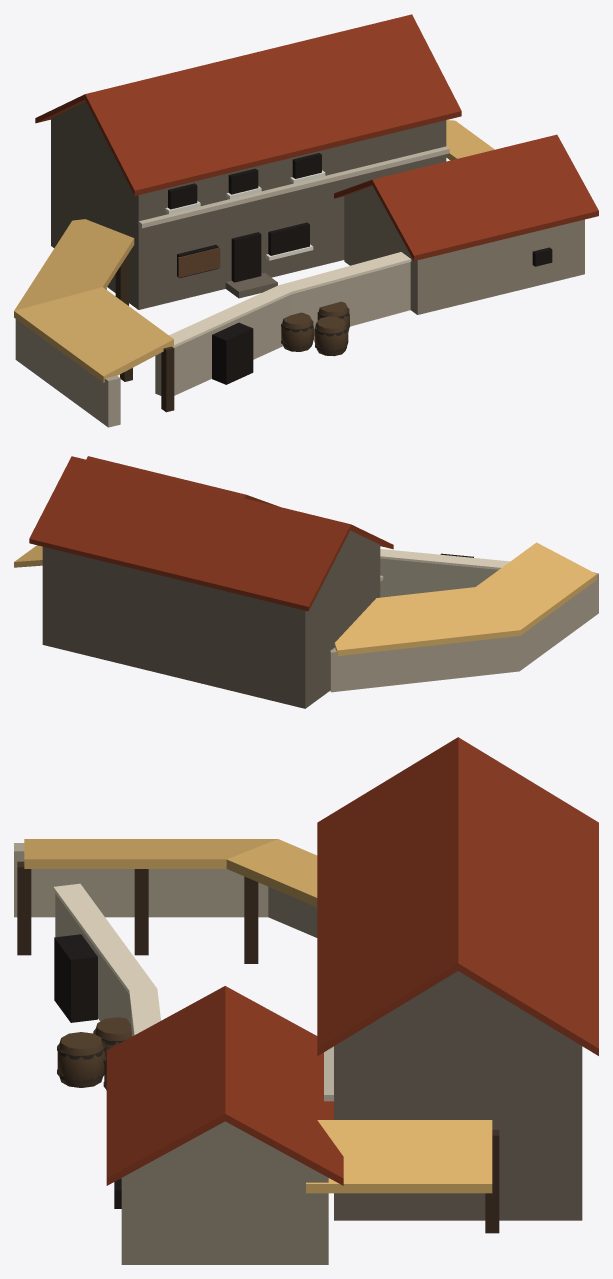
Rendered from VerBuild05.glb.
3 views of the same model, one above another, from view 1: azimuth 30°, elevation 25°; view 2: azimuth 150°, elevation 25°; view 3: azimuth 270°, elevation 25° (orthographic). The views are drawn at different scales.
Visible parts, largest first — view 1: VerBuild05_roof; view 2: VerBuild05_roof; view 3: VerBuild05_roof.
Part boxes in pixels (bbox=[...]): VerBuild05_roof: bbox=[14, 14, 598, 427]; VerBuild05_roof: bbox=[14, 456, 598, 708]; VerBuild05_roof: bbox=[14, 737, 598, 1264].
Bounding box in the file's own units: 10.77 × 3.65 × 7.34.
